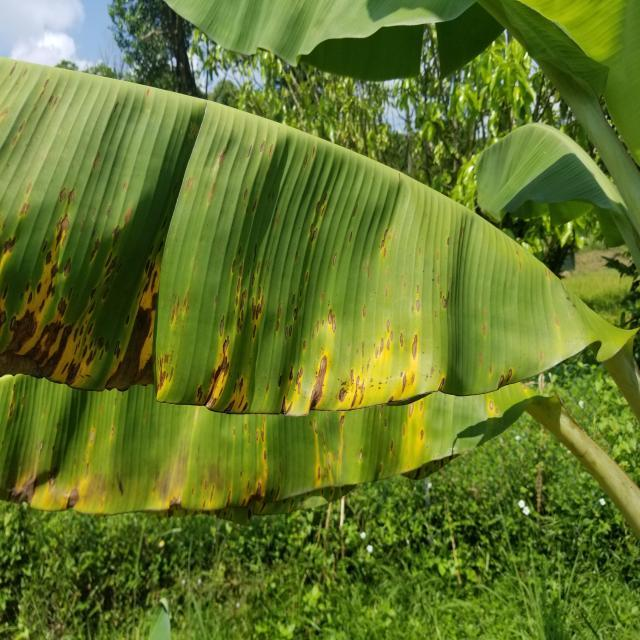Early_rust: (0, 98, 589, 555)
